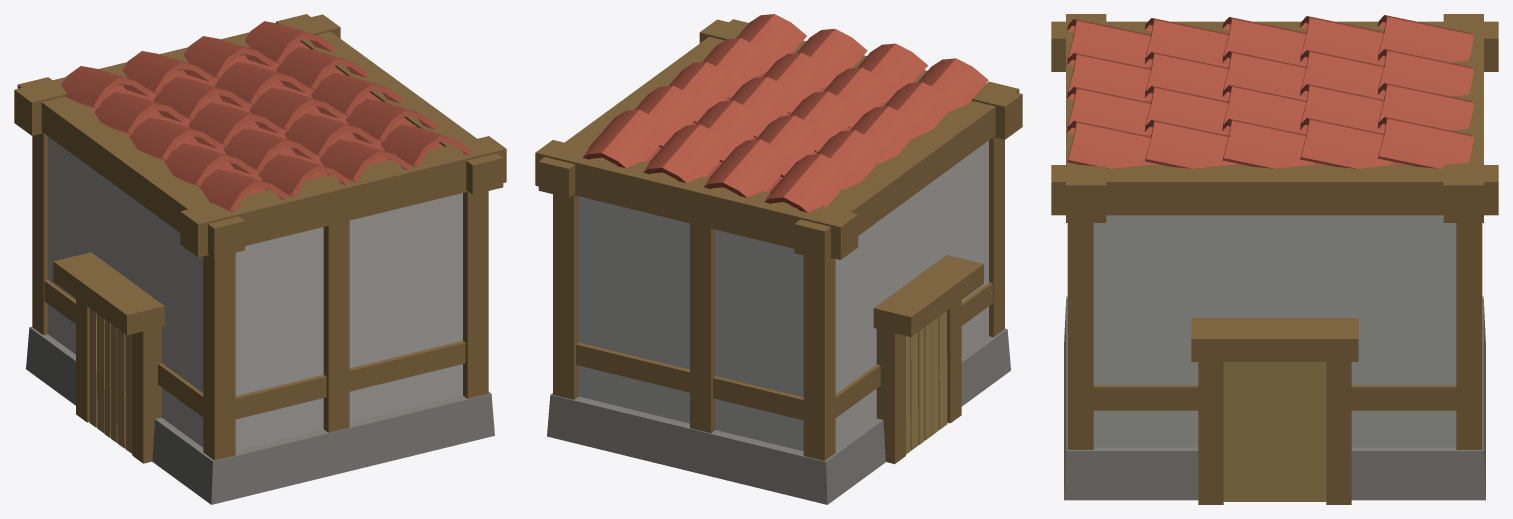
Rendered from Houses_SecondAge_3_Level1.glb.
The picture shows the model from 3 angles, left to right: view 1: azimuth 30°, elevation 25°; view 2: azimuth 150°, elevation 25°; view 3: azimuth 270°, elevation 25°; orthographic projection. The views are drawn at different scales.
Parts seen in each view (by area): view 1: Houses_SecondAge_3_Level1; view 2: Houses_SecondAge_3_Level1; view 3: Houses_SecondAge_3_Level1.
Part boxes in pixels (<box>): Houses_SecondAge_3_Level1: <box>14,14,506,504</box>; Houses_SecondAge_3_Level1: <box>535,14,1022,504</box>; Houses_SecondAge_3_Level1: <box>1051,14,1498,504</box>.
Bounding box in the file's own units: 0.6765 × 0.5909 × 0.6765.
Materials: 1 (1 with a texture image).
